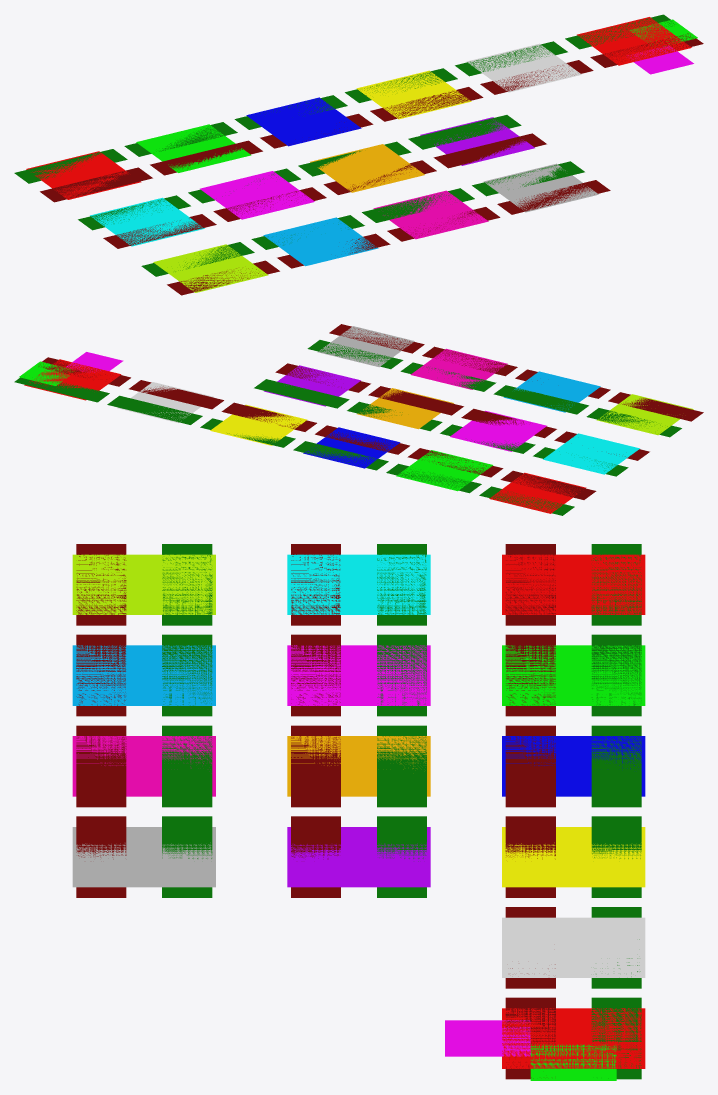
File: planar-fill-polygons.gltf
3 renders of one model, top to bottom at view 1: azimuth 30°, elevation 25°; view 2: azimuth 150°, elevation 25°; view 3: azimuth 270°, elevation 25°, orthographic. The views are drawn at different scales.
Parts seen in each view (by area): view 1: SameObjectNode, Node2, Node5, Node12, Node9, Node3, Node8, Node4, Node6, Node11, Node10, Node1 (+27 smaller); view 2: SameObjectNode, Node4, Node1, Node11, Node10, Node0, Node5, Node2, Node3, Node8, Node6, Node9 (+28 smaller); view 3: SameObjectNode, Node12, Node4, Node0, Node8, Node5, Node9, Node1, Node3, Node11, Node7, Node2 (+30 smaller).
Boxes of the visible parts, bbox=[...] form: SameObjectNode: bbox=[577, 17, 697, 74]; Node2: bbox=[246, 97, 361, 146]; Node5: bbox=[200, 171, 314, 219]; Node12: bbox=[466, 43, 581, 92]; Node9: bbox=[263, 217, 378, 266]; Node3: bbox=[356, 70, 471, 119]; Node8: bbox=[153, 244, 268, 292]; Node4: bbox=[90, 197, 204, 246]; Node6: bbox=[310, 144, 424, 192]; Node11: bbox=[483, 163, 598, 212]; Node10: bbox=[373, 190, 488, 239]; Node1: bbox=[136, 124, 251, 172]; SameObjectNode: bbox=[19, 352, 123, 400]; Node4: bbox=[543, 433, 639, 474]; Node1: bbox=[396, 450, 493, 491]; Node11: bbox=[317, 326, 414, 367]; Node10: bbox=[410, 348, 507, 389]; Node0: bbox=[489, 472, 586, 513]; Node5: bbox=[450, 410, 546, 451]; Node2: bbox=[303, 427, 400, 468]; Node3: bbox=[210, 404, 307, 445]; Node8: bbox=[596, 394, 693, 435]; Node6: bbox=[357, 388, 453, 429]; Node9: bbox=[503, 371, 600, 412]; SameObjectNode: bbox=[445, 1008, 645, 1080]; Node12: bbox=[502, 917, 645, 977]; Node4: bbox=[287, 554, 430, 614]; Node0: bbox=[502, 554, 645, 614]; Node8: bbox=[72, 554, 215, 614]; Node5: bbox=[287, 645, 430, 705]; Node9: bbox=[72, 645, 215, 705]; Node1: bbox=[502, 645, 645, 705]; Node3: bbox=[502, 827, 645, 887]; Node11: bbox=[72, 827, 215, 887]; Node7: bbox=[287, 827, 430, 887]; Node2: bbox=[502, 736, 645, 796].
Size of the model in its own units: 88.75 by 0 by 40.
